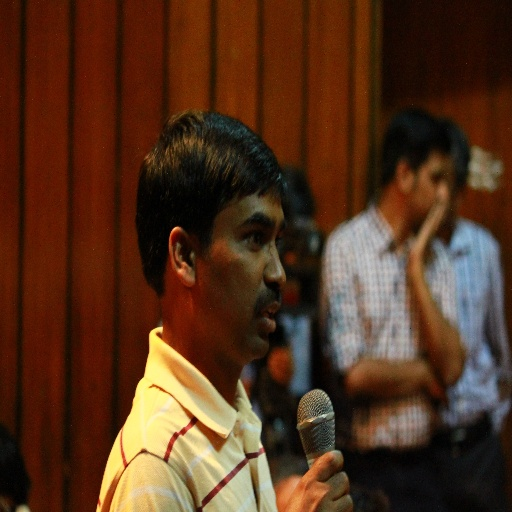hand: (281, 448, 353, 511), (406, 198, 440, 270), (425, 358, 448, 407)
